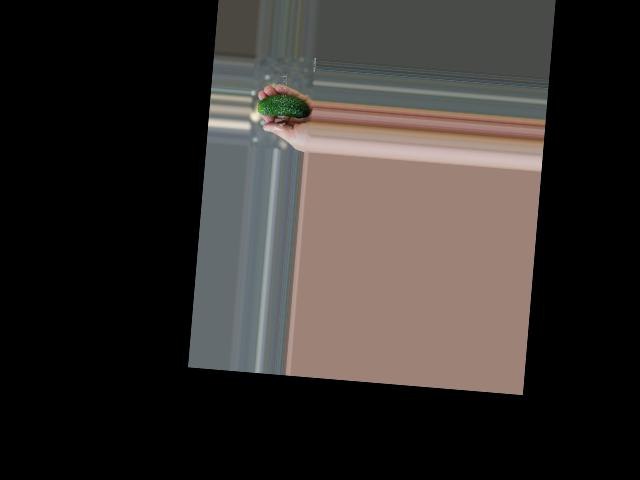cucumber: (257, 92, 310, 118)
